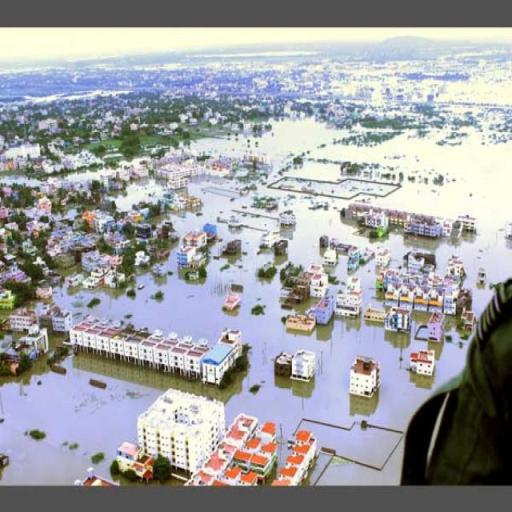flood: (0, 187, 431, 484), (265, 118, 512, 317), (307, 199, 414, 250), (319, 434, 402, 486), (60, 279, 156, 320), (296, 404, 408, 433), (287, 201, 330, 270), (368, 151, 457, 183), (428, 329, 472, 392), (308, 423, 401, 451), (195, 134, 283, 162), (277, 178, 399, 196), (437, 236, 477, 290), (244, 265, 281, 322), (440, 77, 512, 104), (111, 175, 164, 211), (352, 258, 382, 311), (54, 289, 105, 310), (133, 266, 166, 287), (385, 240, 405, 269), (67, 169, 107, 179), (117, 155, 149, 167), (4, 178, 39, 187), (259, 252, 277, 267), (0, 175, 41, 180)
house: (70, 314, 208, 383), (180, 413, 283, 487), (141, 390, 220, 476), (382, 268, 464, 307), (266, 428, 317, 486), (202, 338, 239, 388), (115, 442, 154, 482), (275, 348, 316, 383), (349, 356, 382, 398), (51, 228, 97, 254), (352, 205, 388, 235), (404, 217, 442, 242), (286, 272, 316, 300), (24, 328, 50, 360), (410, 348, 437, 378), (160, 164, 189, 190), (403, 250, 437, 272), (310, 294, 334, 324), (284, 312, 316, 334), (175, 245, 205, 268), (85, 210, 117, 231), (338, 290, 364, 315), (4, 142, 44, 158), (386, 311, 412, 335), (86, 252, 120, 270), (8, 309, 38, 329), (197, 160, 230, 178), (75, 474, 117, 488), (426, 312, 445, 342), (1, 266, 29, 284), (104, 229, 130, 248), (65, 152, 95, 168), (173, 193, 201, 210), (181, 228, 207, 246), (50, 312, 70, 334), (0, 221, 19, 242), (102, 172, 124, 190), (44, 180, 71, 194), (104, 271, 125, 289), (201, 221, 218, 243), (364, 306, 386, 322), (460, 308, 475, 331), (36, 198, 54, 217), (133, 249, 152, 267), (457, 215, 476, 232), (21, 238, 38, 257), (245, 153, 271, 165), (278, 209, 296, 226), (152, 260, 168, 277), (36, 284, 54, 299), (136, 222, 152, 238), (65, 273, 82, 288), (228, 238, 242, 256), (26, 220, 48, 231), (274, 240, 288, 256), (375, 252, 390, 266), (324, 250, 337, 266), (85, 275, 100, 288), (450, 256, 463, 270), (43, 160, 55, 174), (319, 235, 330, 249), (135, 166, 148, 177), (0, 205, 10, 219)
